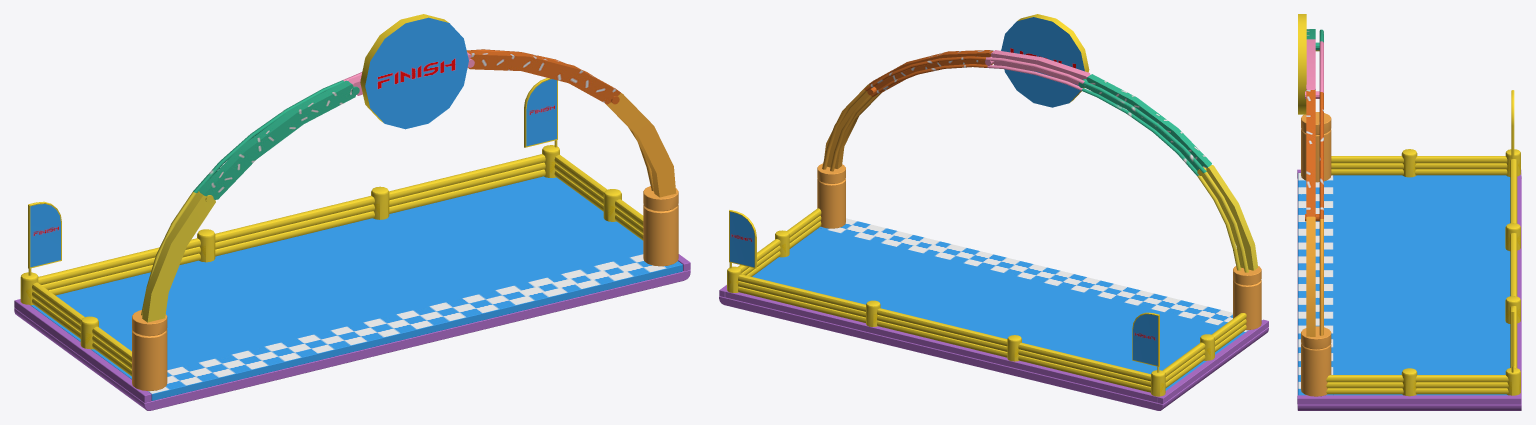
The model's file is PLF0110029.fbx.
The picture shows the model from 3 angles, left to right: view 1: azimuth 30°, elevation 25°; view 2: azimuth 150°, elevation 25°; view 3: azimuth 270°, elevation 25°; orthographic projection. The views are drawn at different scales.
Parts seen in each view (by area): view 1: smPLF0110029; view 2: smPLF0110029; view 3: smPLF0110029.
Boxes of the visible parts, box(x1,y1,x2,y2) form: smPLF0110029: box(14, 14, 690, 410); smPLF0110029: box(719, 14, 1268, 410); smPLF0110029: box(1297, 14, 1521, 410).
Bounding box in the file's own units: 1649 × 938 × 682.
Materials: 1 (1 with a texture image).
